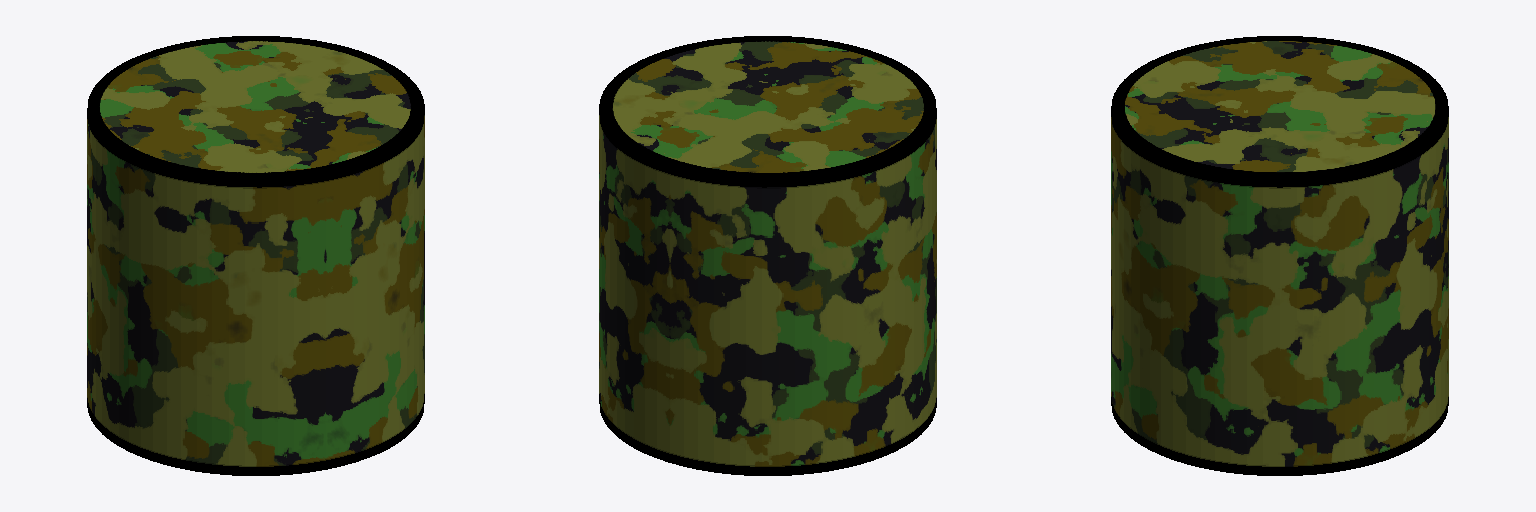
3 views of the same model, side by side, from view 1: azimuth 30°, elevation 25°; view 2: azimuth 150°, elevation 25°; view 3: azimuth 270°, elevation 25° (orthographic).
Visible parts, largest first — view 1: camouflage_r1; view 2: camouflage_r1; view 3: camouflage_r1.
Part boxes in pixels (x1,y1,x2,y2): camouflage_r1: (87, 36, 424, 475); camouflage_r1: (599, 36, 936, 475); camouflage_r1: (1111, 36, 1448, 475).
Size of the model in its own units: 2 by 1.95 by 2.
4 materials, 2 textured.